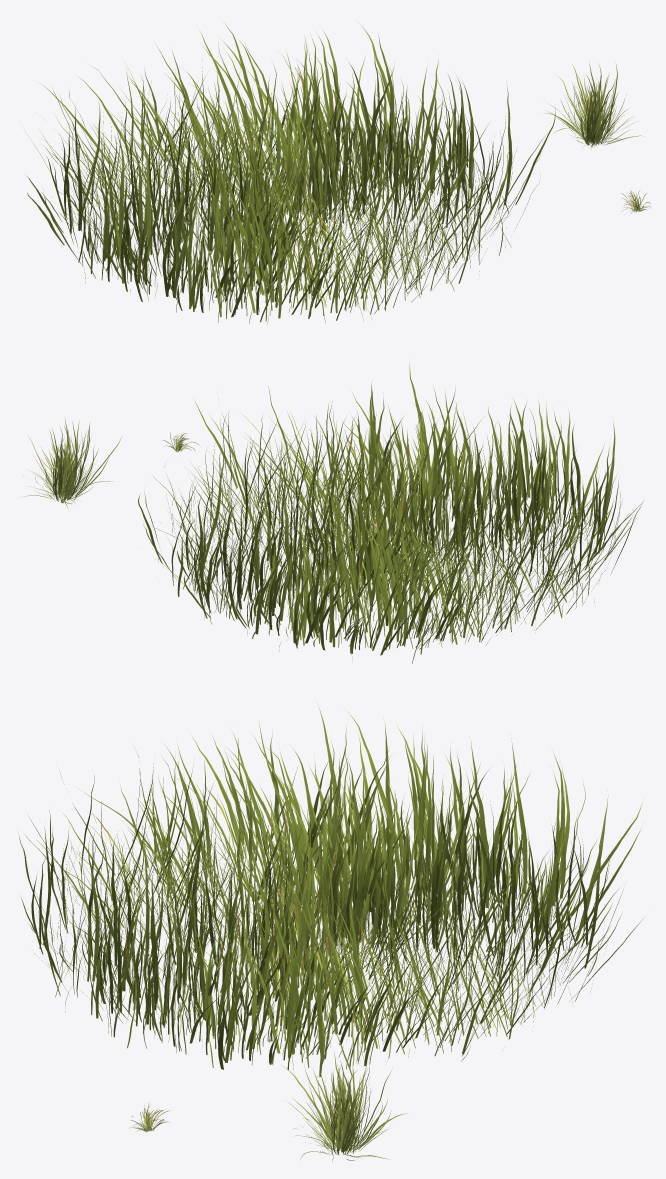
Rendered from grass.glb.
3 views of the same model, one above another, from view 1: azimuth 30°, elevation 25°; view 2: azimuth 150°, elevation 25°; view 3: azimuth 270°, elevation 25° (orthographic). The views are drawn at different scales.
Parts seen in each view (by area): view 1: GrassLawnAutumn_Grass2_Mat1_0_9, GrassLawnAutumn_Grass3_Mat_0_11, GrassLawnAutumn_Grass1_Mat1_0_10, GrassLawnAutumn_Grass_Mat1_0_8, Grass1_Grass1_Mat_0_6, Grass1_Grass_Mat_0_4; view 2: GrassLawnAutumn_Grass2_Mat1_0_9, GrassLawnAutumn_Grass3_Mat_0_11, GrassLawnAutumn_Grass1_Mat1_0_10, GrassLawnAutumn_Grass_Mat1_0_8, Grass1_Grass1_Mat_0_6, Grass1_Grass_Mat_0_4, Grass1_Grass2_Mat_0_5; view 3: GrassLawnAutumn_Grass2_Mat1_0_9, GrassLawnAutumn_Grass3_Mat_0_11, GrassLawnAutumn_Grass1_Mat1_0_10, GrassLawnAutumn_Grass_Mat1_0_8, Grass1_Grass1_Mat_0_6, Grass1_Grass_Mat_0_4, Grass1_Grass2_Mat_0_5.
Boxes of the visible parts, box(x1,y1,x2,y2) form: GrassLawnAutumn_Grass2_Mat1_0_9: box(27, 23, 555, 322); GrassLawnAutumn_Grass3_Mat_0_11: box(40, 36, 546, 316); GrassLawnAutumn_Grass1_Mat1_0_10: box(93, 67, 497, 314); GrassLawnAutumn_Grass_Mat1_0_8: box(25, 43, 541, 323); Grass1_Grass1_Mat_0_6: box(548, 62, 631, 143); Grass1_Grass_Mat_0_4: box(544, 85, 643, 149); GrassLawnAutumn_Grass2_Mat1_0_9: box(138, 364, 643, 655); GrassLawnAutumn_Grass3_Mat_0_11: box(154, 386, 633, 649); GrassLawnAutumn_Grass1_Mat1_0_10: box(187, 419, 614, 647); GrassLawnAutumn_Grass_Mat1_0_8: box(167, 409, 634, 663); Grass1_Grass1_Mat_0_6: box(28, 419, 122, 499); Grass1_Grass_Mat_0_4: box(23, 444, 113, 507); Grass1_Grass2_Mat_0_5: box(34, 446, 98, 500); GrassLawnAutumn_Grass2_Mat1_0_9: box(19, 706, 644, 1077); GrassLawnAutumn_Grass3_Mat_0_11: box(34, 721, 601, 1069); GrassLawnAutumn_Grass1_Mat1_0_10: box(49, 785, 569, 1065); GrassLawnAutumn_Grass_Mat1_0_8: box(26, 778, 604, 1069); Grass1_Grass1_Mat_0_6: box(283, 1052, 391, 1154); Grass1_Grass_Mat_0_4: box(292, 1086, 407, 1161); Grass1_Grass2_Mat_0_5: box(289, 1078, 371, 1154).
Size of the model in its own units: 4.79 by 1.02 by 3.57.
9 materials, 9 textured.
